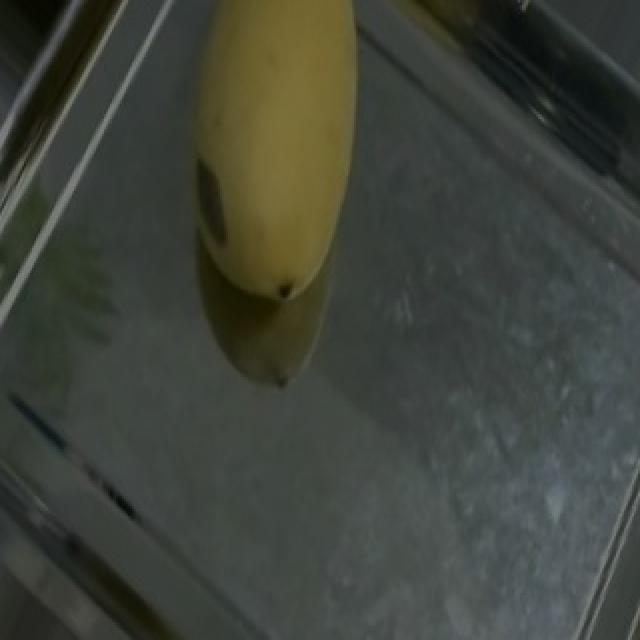fruit: (132, 0, 460, 322)
